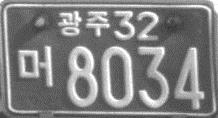0: (100, 45, 134, 110)
2: (136, 10, 160, 42)
3: (135, 44, 170, 109), (111, 8, 136, 42)
4: (171, 45, 206, 111)
8: (65, 44, 98, 110)
광주_O: (56, 9, 110, 37)
머: (16, 43, 54, 90)
